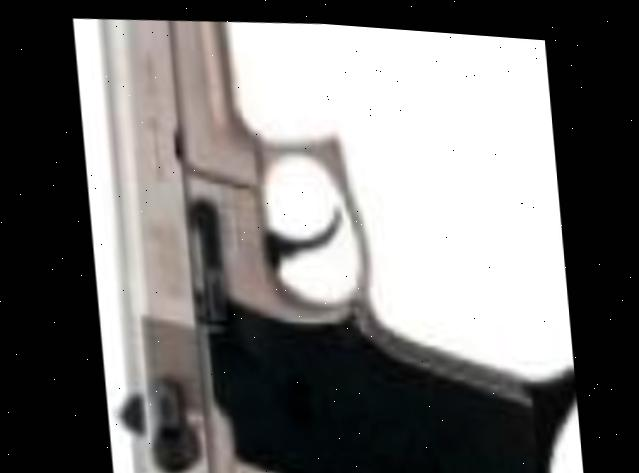pistol: (71, 4, 570, 473)
